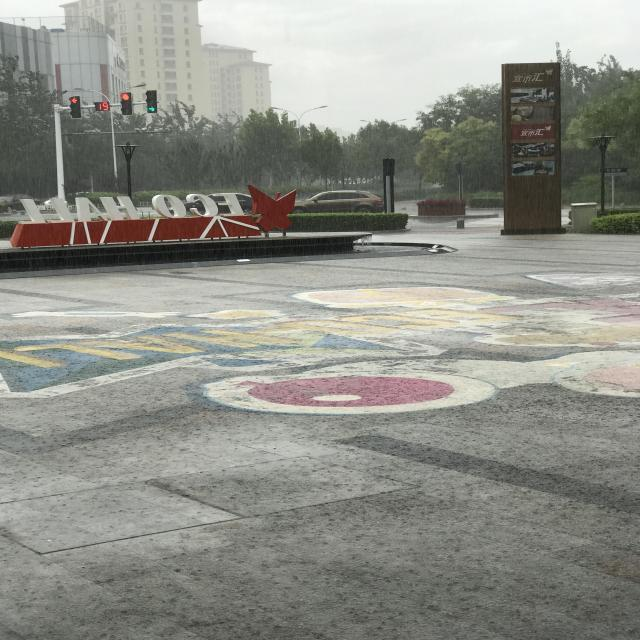car: (188, 255, 214, 348), (192, 388, 217, 453), (192, 597, 212, 640)
